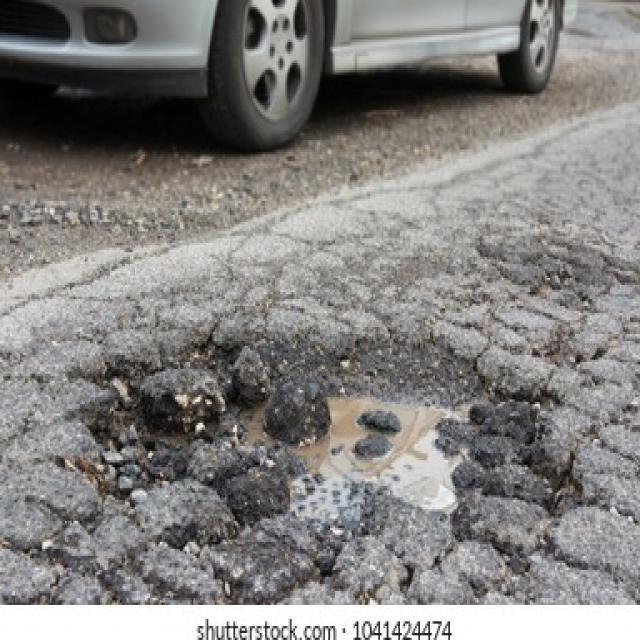Pothole: (77, 324, 545, 558)
